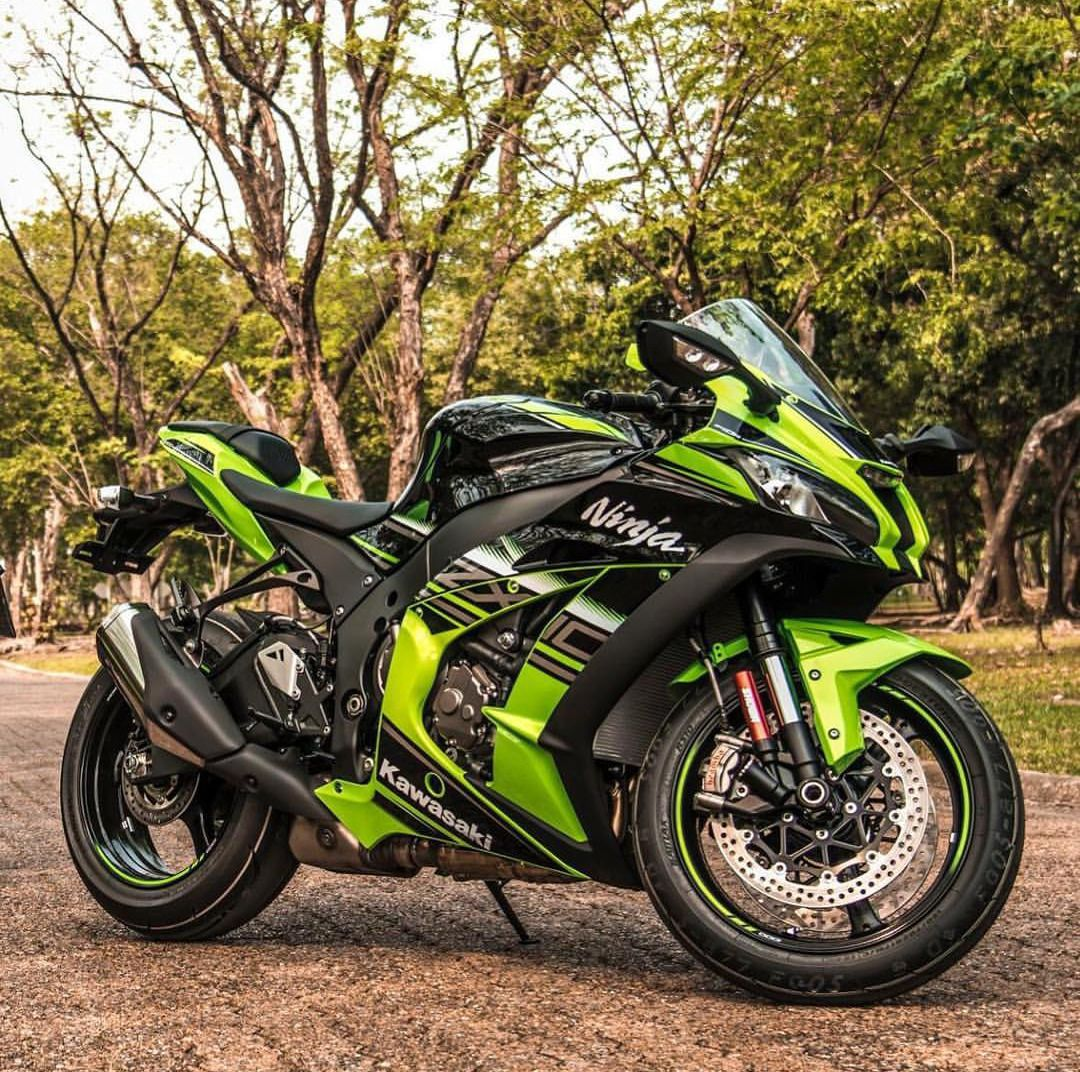bike: (83, 350, 1034, 1003)
